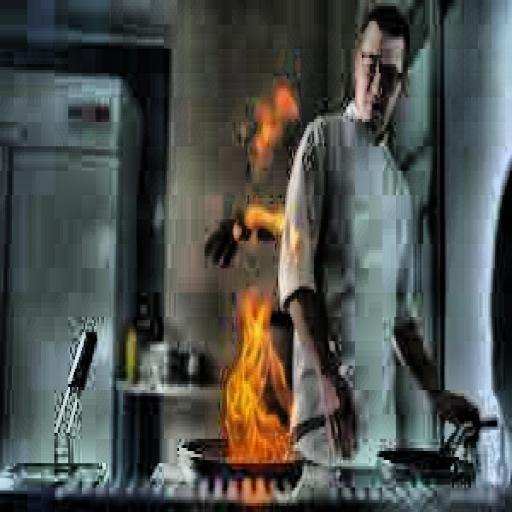fire: (215, 274, 306, 454), (238, 82, 312, 244)
